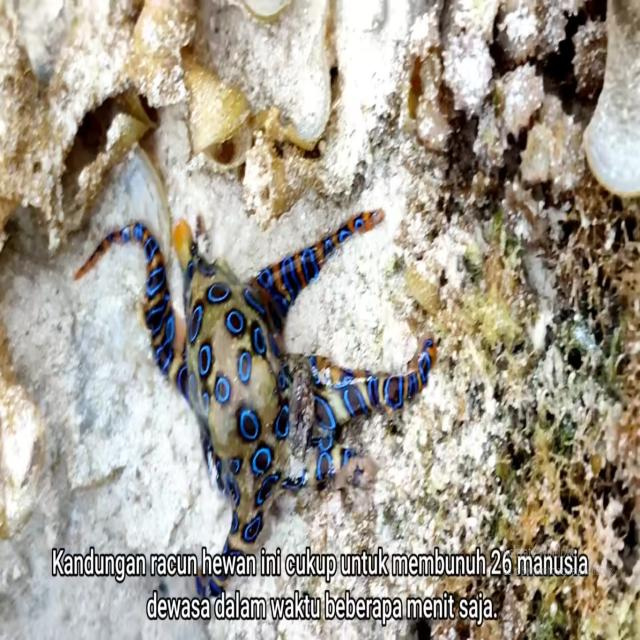blue_ringed_octopus: (72, 206, 438, 599)
